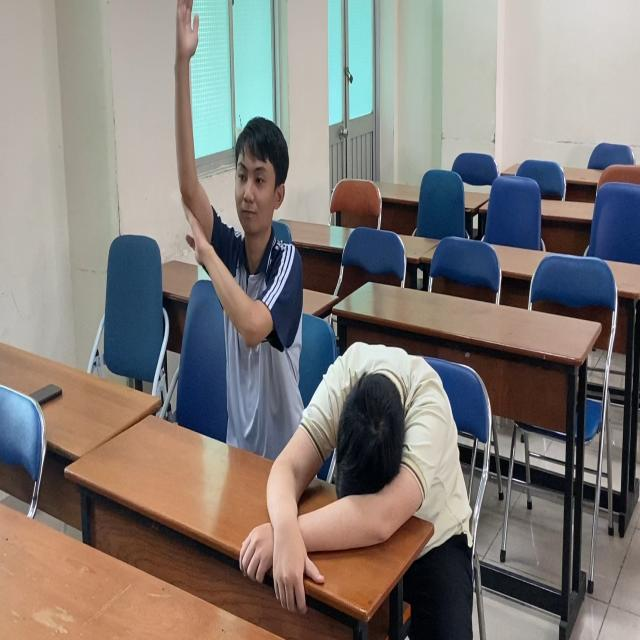sleep: (236, 318, 479, 611)
